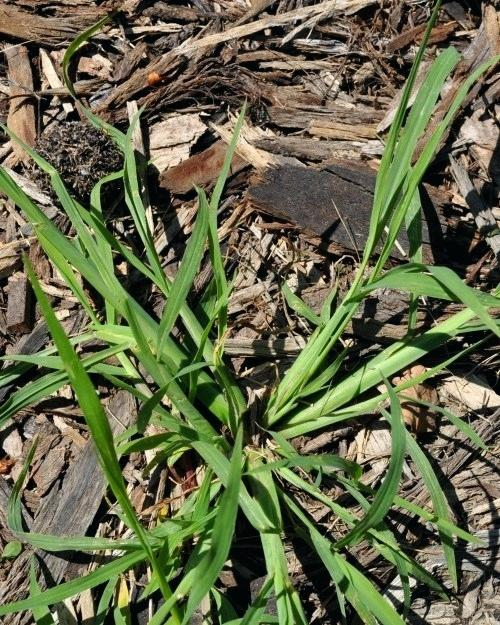crabgrass: (13, 135, 475, 612)
